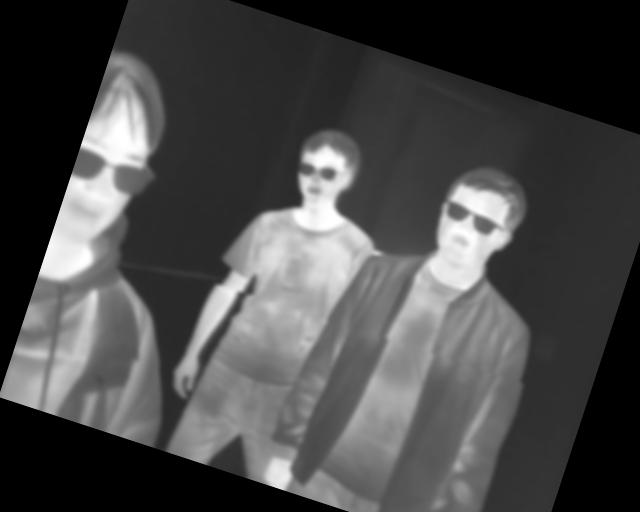face: (54, 46, 185, 252), (423, 155, 536, 284), (282, 119, 370, 219)
